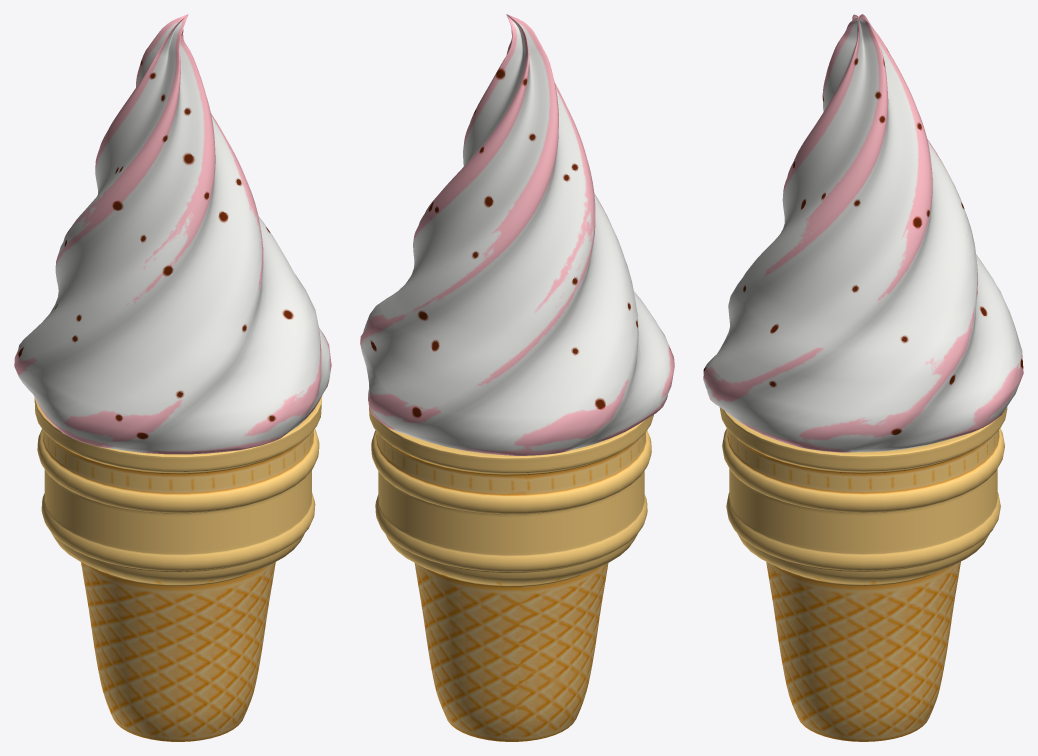
File: icecream.fbx
The picture shows the model from 3 angles, left to right: view 1: azimuth 30°, elevation 25°; view 2: azimuth 150°, elevation 25°; view 3: azimuth 270°, elevation 25°; orthographic projection.
Parts seen in each view (by area): view 1: ice_cream_smooth:ice_cream_UV_2_wafflesgroup2; view 2: ice_cream_smooth:ice_cream_UV_2_wafflesgroup2; view 3: ice_cream_smooth:ice_cream_UV_2_wafflesgroup2.
Boxes of the visible parts, bbox=[...] form: ice_cream_smooth:ice_cream_UV_2_wafflesgroup2: bbox=[14, 14, 331, 741]; ice_cream_smooth:ice_cream_UV_2_wafflesgroup2: bbox=[360, 14, 674, 741]; ice_cream_smooth:ice_cream_UV_2_wafflesgroup2: bbox=[703, 14, 1023, 741].
Size of the model in its own units: 12.99 by 32.03 by 13.24.
